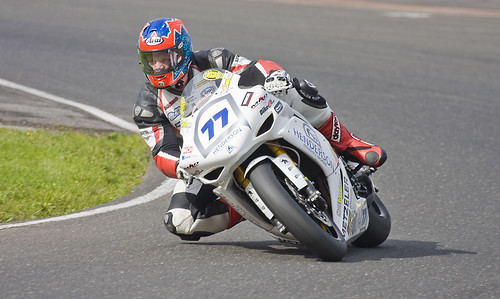helmet: (125, 17, 192, 84)
